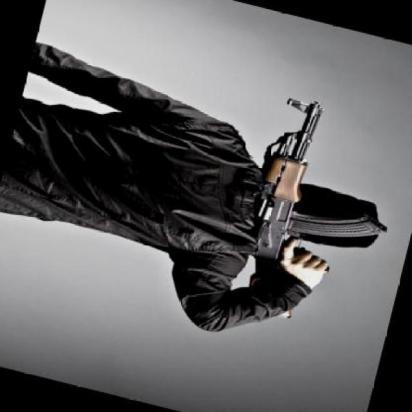Gun: (252, 94, 324, 284)
